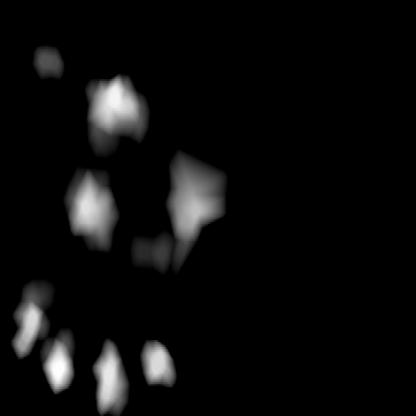fingers: (28, 44, 63, 74)
palm: (15, 280, 173, 411)
thumb: (73, 76, 196, 269)
